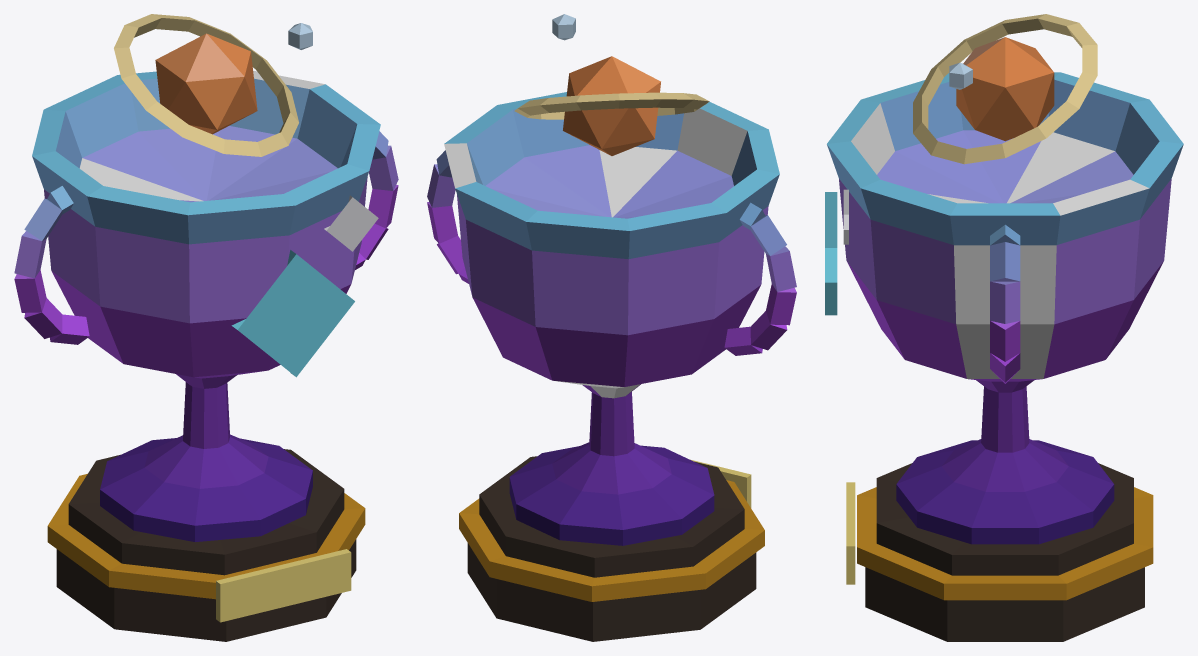
File: Trophy_Galaxy.fbx
The picture shows the model from 3 angles, left to right: view 1: azimuth 30°, elevation 25°; view 2: azimuth 150°, elevation 25°; view 3: azimuth 270°, elevation 25°; orthographic projection. The views are drawn at different scales.
Parts seen in each view (by area): view 1: Body; view 2: Body; view 3: Body.
Part boxes in pixels (box(x1,y1,x2,y2)): Body: box(14, 14, 398, 641); Body: box(427, 14, 796, 641); Body: box(825, 14, 1183, 641).
Size of the model in its own units: 2.94 by 4.05 by 2.37.
